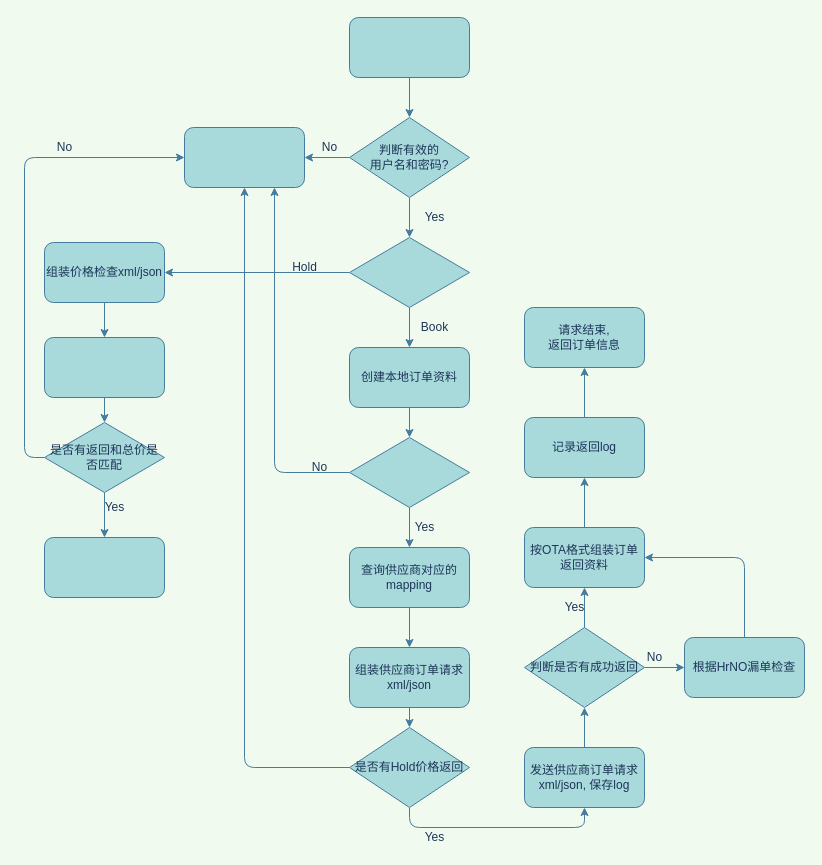
Image size: 822x865. Some labels were removed from this diagram. Each missing label, with the centre of its shape:
"Book还是Hold" belongs at point (409, 272).
"发起HotelResRQ" belongs at point (409, 47).
"发送供应商请求xml/json, 保存log" belongs at point (104, 367).
"本地订单创建是否成功" belongs at point (409, 472).
"请求结束, 返回Hold信息" belongs at point (104, 567).
"请求结束, 返回错误信息" belongs at point (244, 157).
